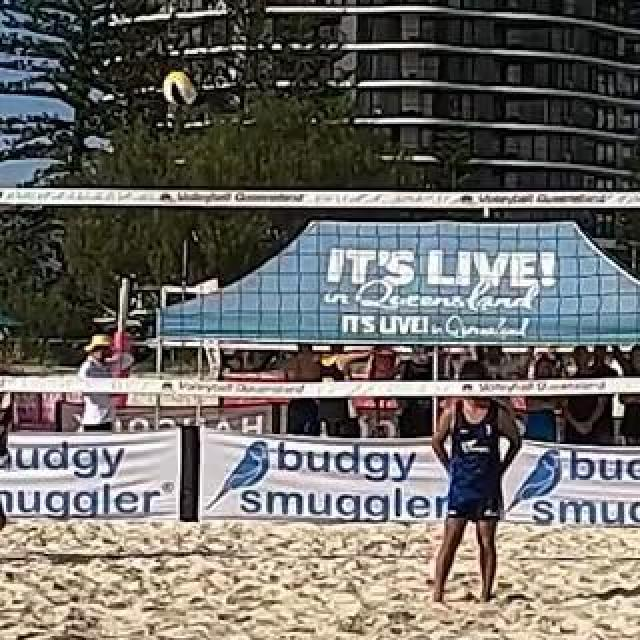volleyball: (163, 72, 197, 106)
